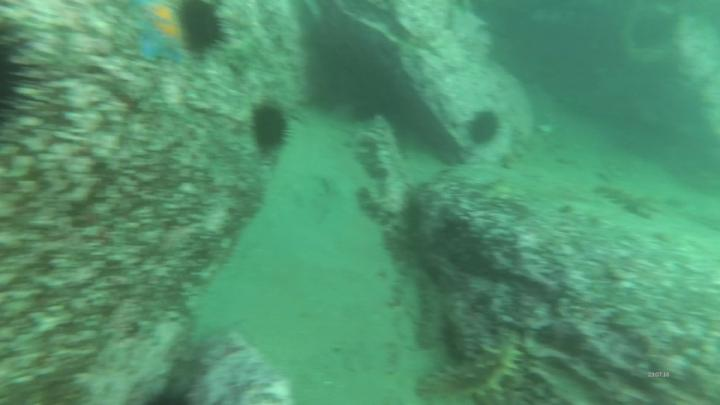echinus: (179, 1, 228, 58), (250, 100, 290, 157), (467, 109, 507, 148)
holothurian: (413, 329, 527, 405)
starfish: (136, 2, 188, 64)
